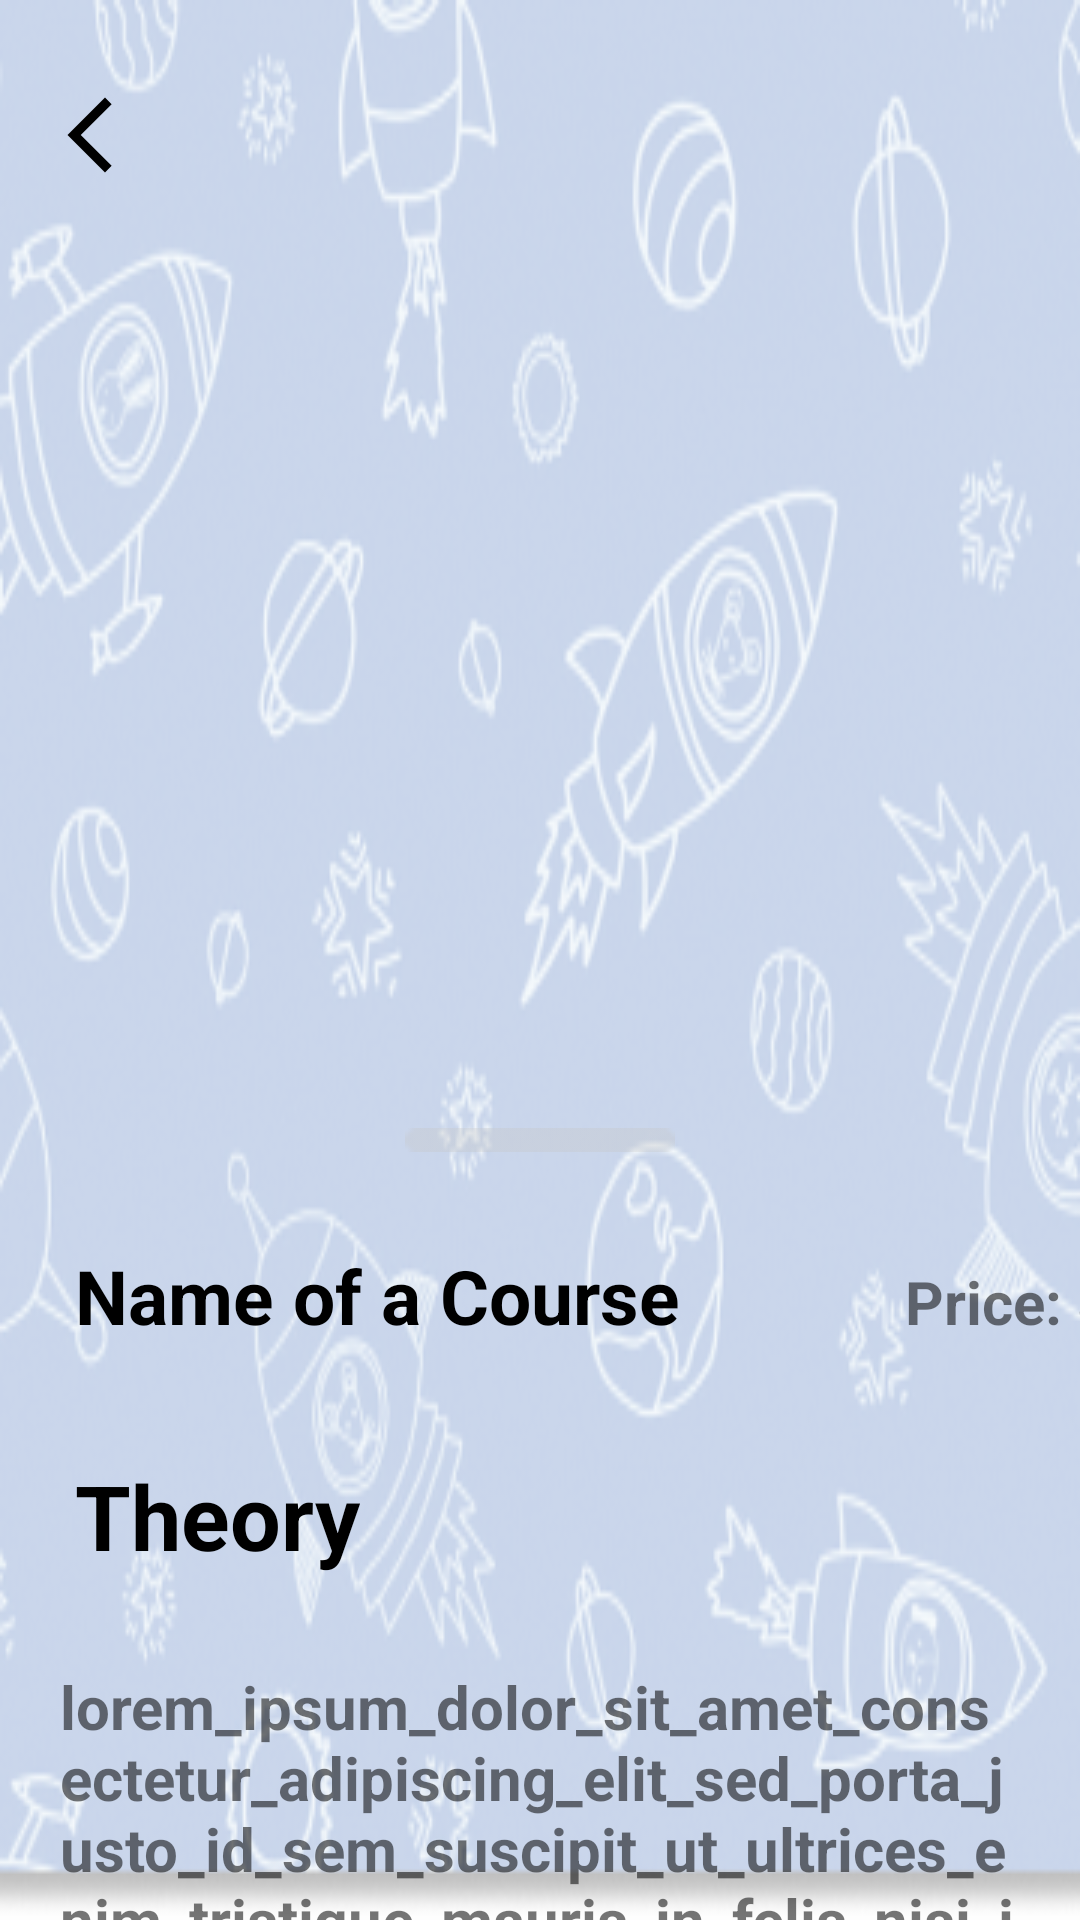

Icon click points for this 1080 × 1920 phone screenshot, format (x=x, y=y):
arrow back: (x=89, y=135)
